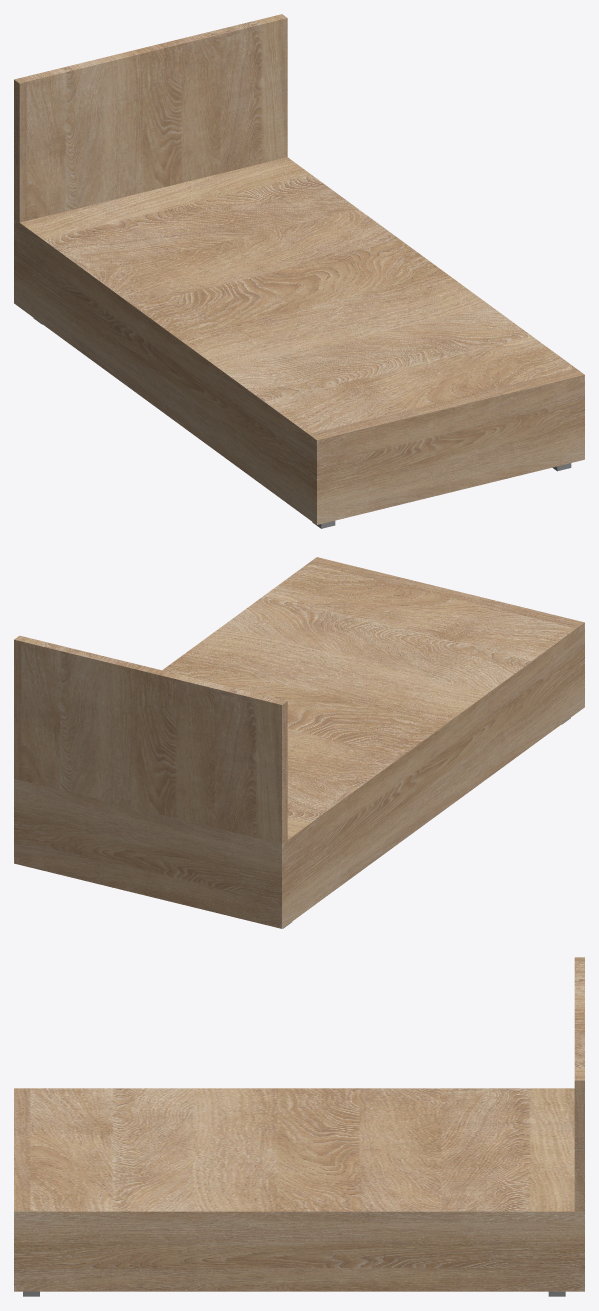
The model's file is Bed.FBX.
3 renders of one model, top to bottom at view 1: azimuth 30°, elevation 25°; view 2: azimuth 150°, elevation 25°; view 3: azimuth 270°, elevation 25°, orthographic. The views are drawn at different scales.
Parts seen in each view (by area): view 1: bed; view 2: bed; view 3: bed.
Part boxes in pixels (box(x1,y1,x2,y2)): bed: box(14, 14, 584, 528); bed: box(14, 557, 584, 928); bed: box(14, 957, 584, 1296).
Size of the model in its own units: 90.96 by 75.68 by 178.
2 materials, 1 textured.
